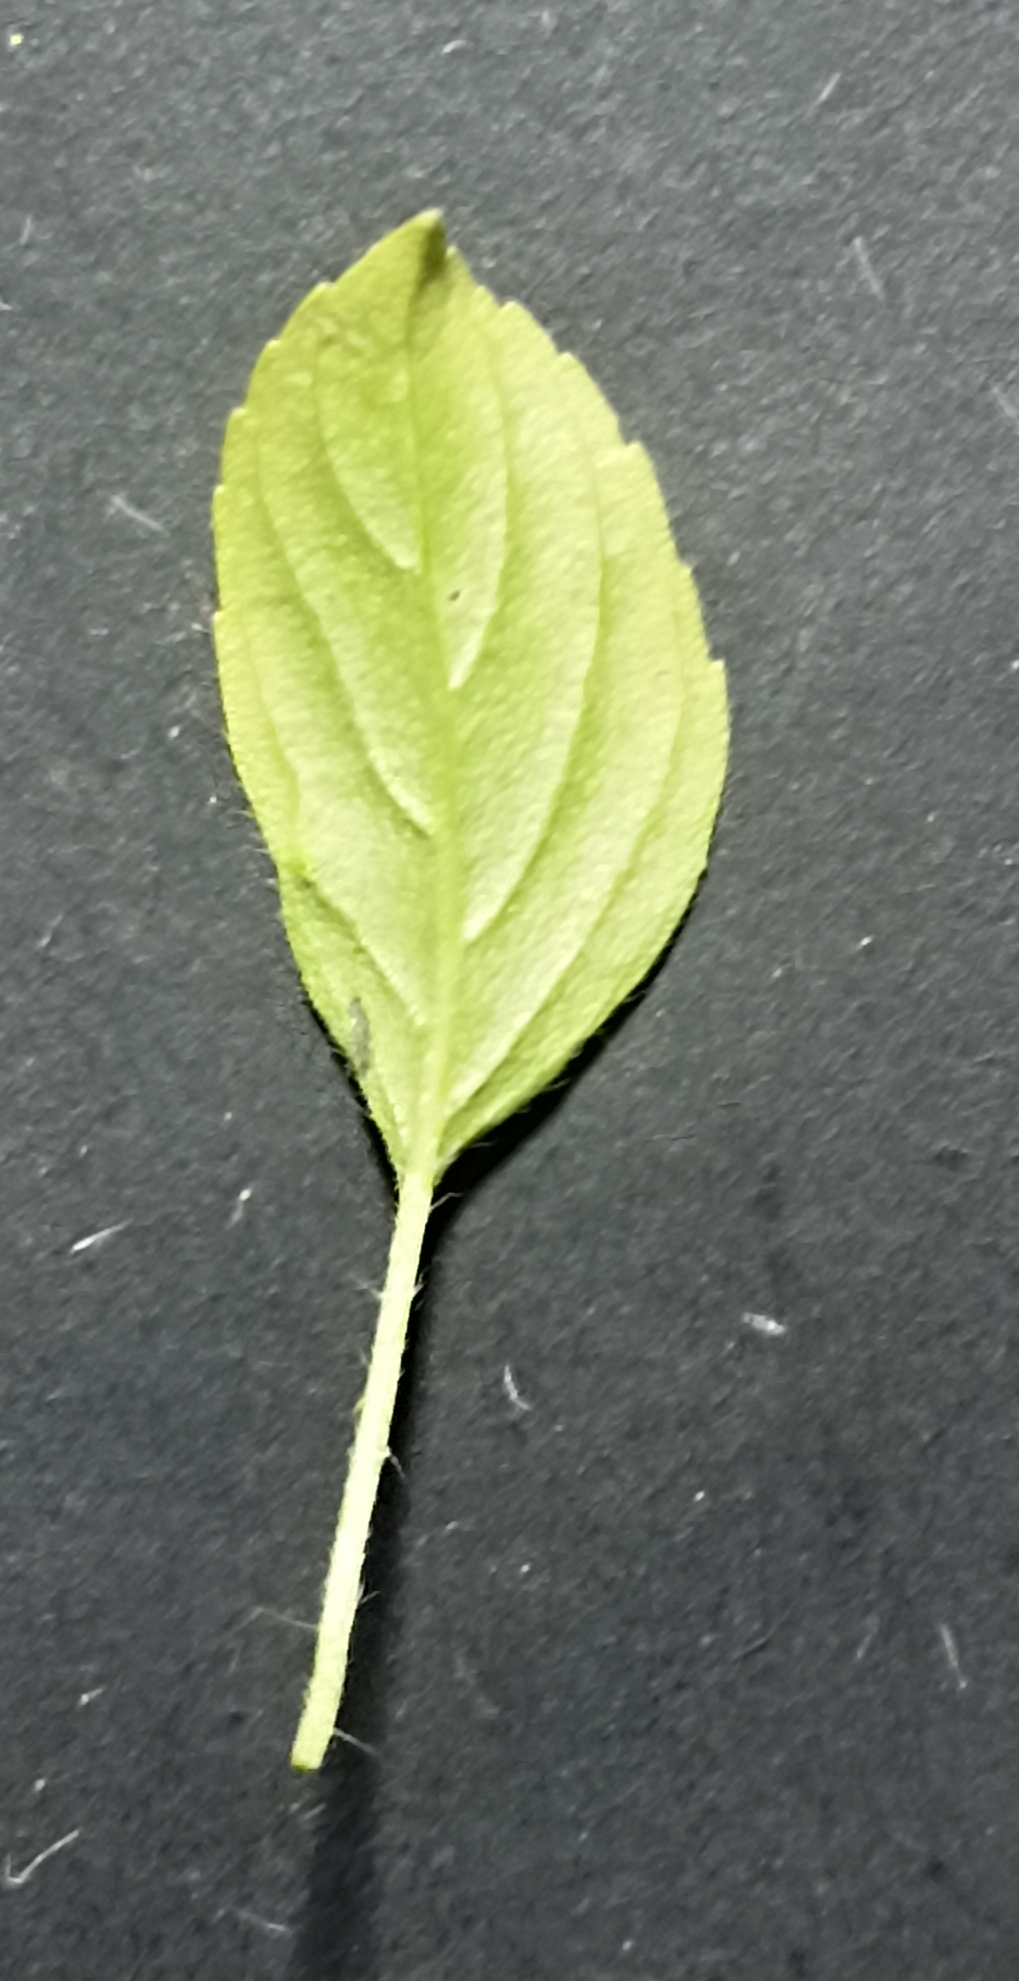Healthy: (198, 194, 742, 1217)
